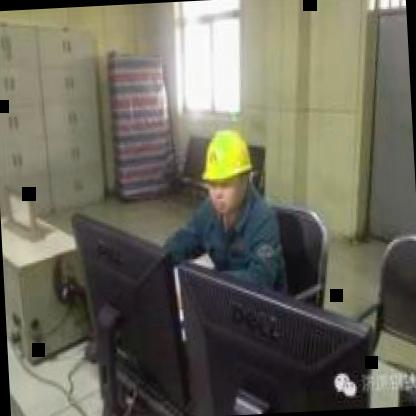helmet: (195, 122, 256, 217)
